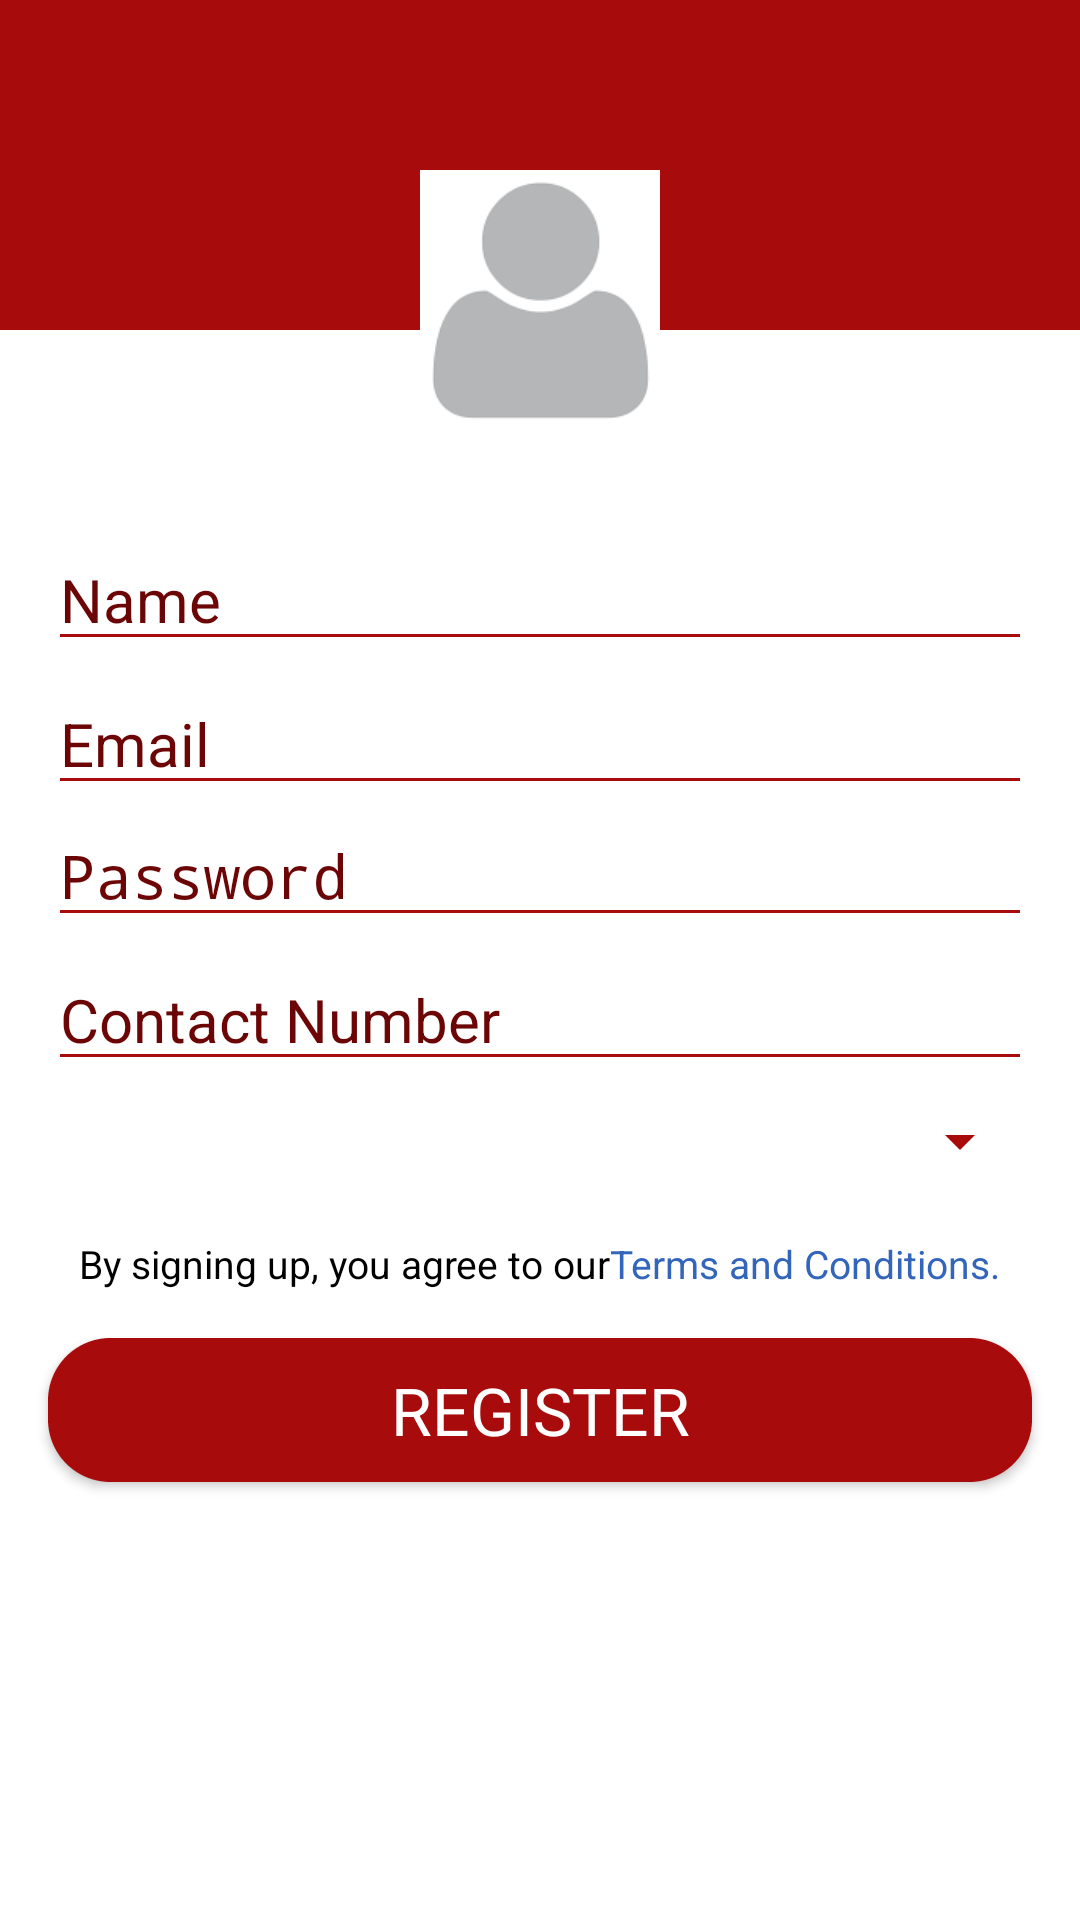

Icons on this 1080px x 1920px Android screen, each with the point to tap as point (x, y):
user: point (540, 301)
